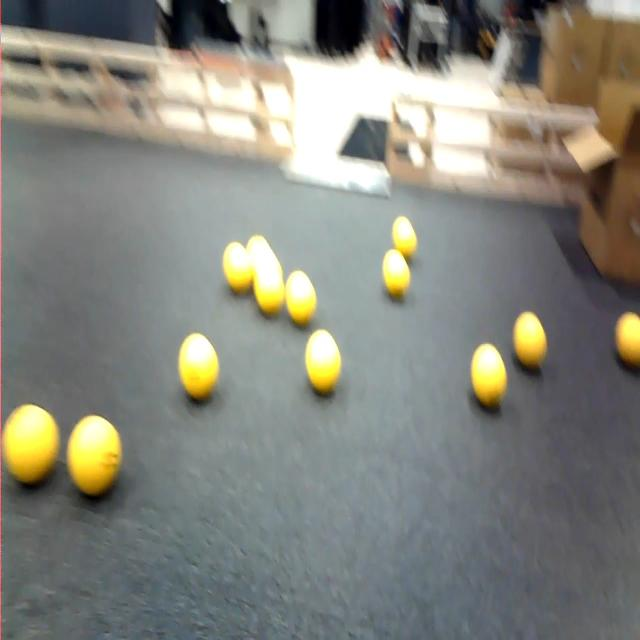fuel: (2, 405, 59, 484), (67, 416, 121, 496), (178, 334, 218, 400), (471, 344, 507, 408), (305, 330, 341, 394), (513, 312, 547, 369), (286, 272, 316, 326), (254, 265, 284, 316), (223, 242, 252, 293), (247, 236, 283, 277), (615, 312, 639, 368), (383, 249, 410, 298), (392, 216, 417, 260), (246, 235, 266, 255)
